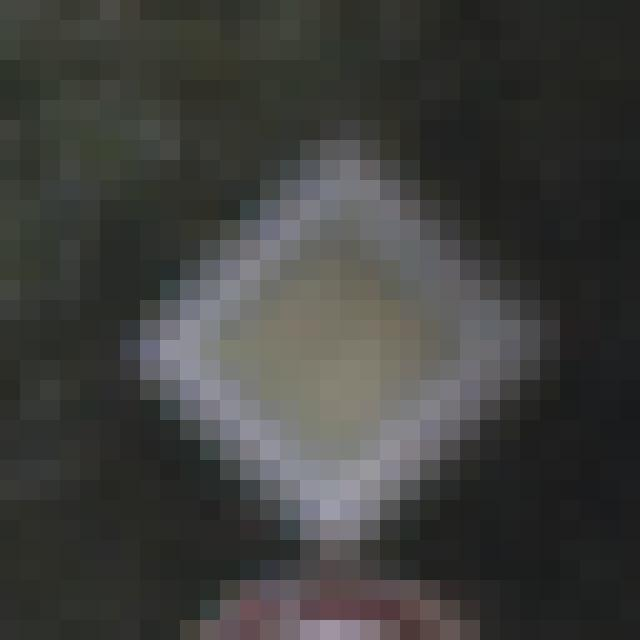Main Road: (121, 101, 521, 541)
